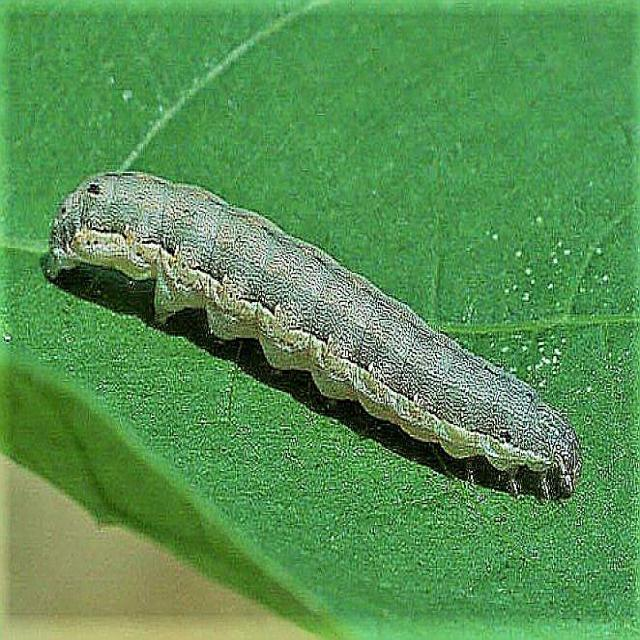Armyworm: (34, 118, 594, 550)
